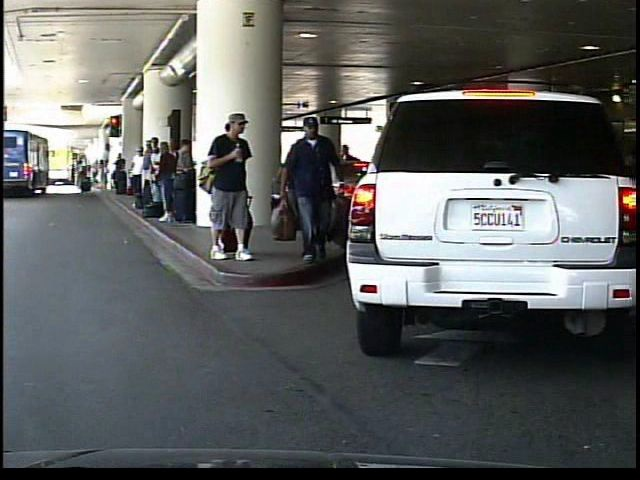person: (283, 104, 353, 265), (207, 109, 263, 263)
